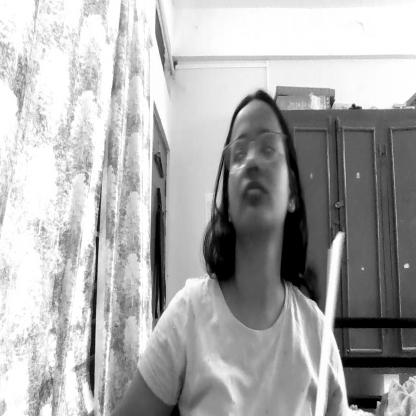Distracted: (221, 91, 293, 242)
